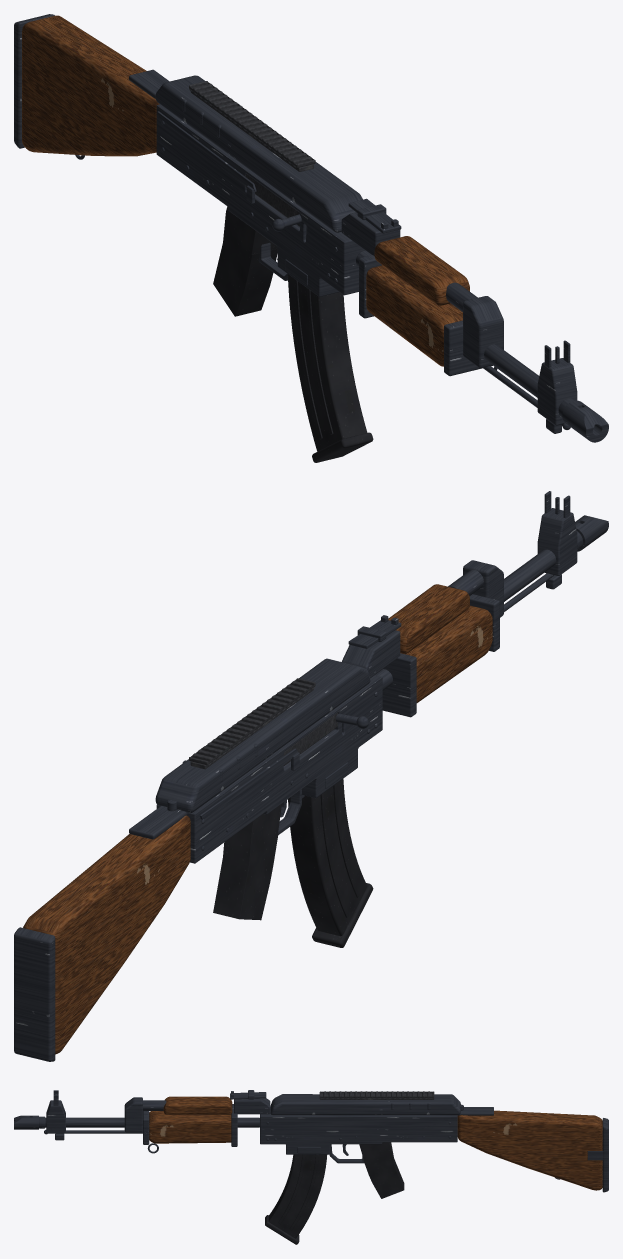
Rendered from gun_rifle.glb.
The picture shows the model from 3 angles, top to bottom: view 1: azimuth 30°, elevation 25°; view 2: azimuth 150°, elevation 25°; view 3: azimuth 270°, elevation 25°; orthographic projection. The views are drawn at different scales.
Parts seen in each view (by area): view 1: gun_rifle; view 2: gun_rifle; view 3: gun_rifle.
Part boxes in pixels (x1,y1,x2,y2): gun_rifle: [14, 14, 608, 462]; gun_rifle: [14, 491, 608, 1061]; gun_rifle: [14, 1090, 608, 1244].
Size of the model in its own units: 0.0883 by 0.3151 by 1.14.
Materials: 4 (4 with a texture image).
